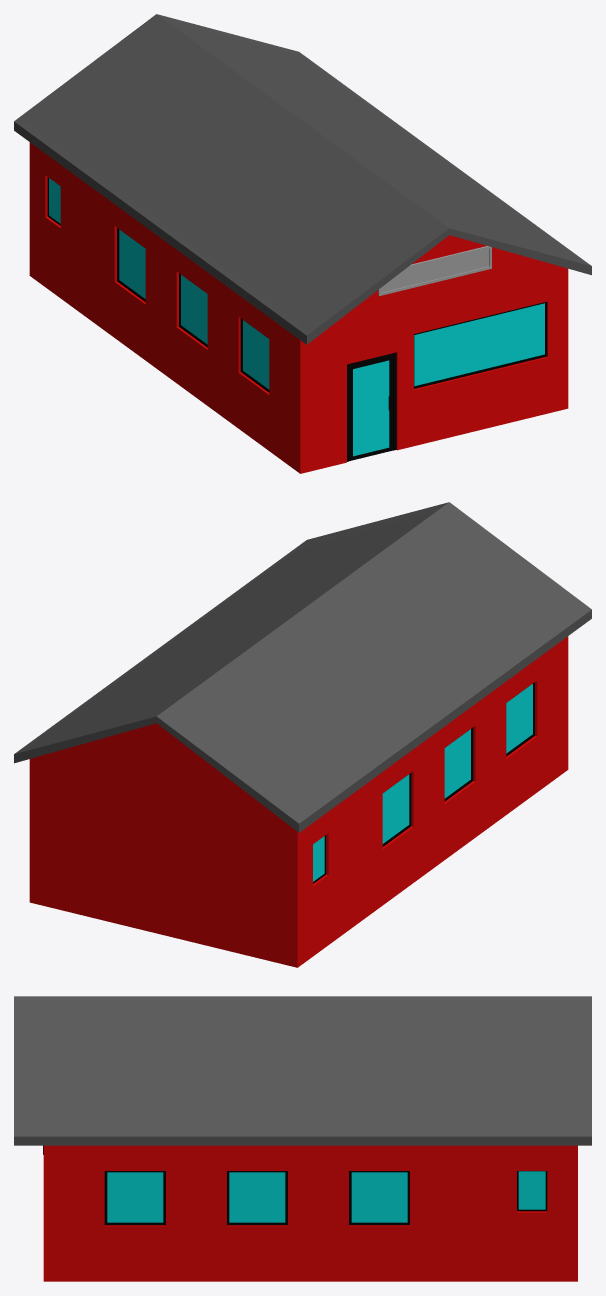
The model's file is Post OfficeF.fbx.
The picture shows the model from 3 angles, top to bottom: view 1: azimuth 30°, elevation 25°; view 2: azimuth 150°, elevation 25°; view 3: azimuth 270°, elevation 25°; orthographic projection.
Visible parts, largest first — view 1: polySurface7, polySurface8, polySurface2, polySurface9, polySurface12, polySurface11, polySurface4; view 2: polySurface7, polySurface11, polySurface4, polySurface12; view 3: polySurface7, polySurface13, polySurface14, polySurface15, polySurface10.
Part boxes in pixels (box(x1,y1,x2,y2)): polySurface7: box(14, 14, 591, 473); polySurface8: box(414, 301, 546, 388); polySurface2: box(347, 352, 396, 461); polySurface9: box(378, 246, 491, 296); polySurface12: box(240, 318, 269, 392); polySurface11: box(179, 273, 207, 347); polySurface4: box(117, 228, 145, 301); polySurface7: box(14, 502, 591, 967); polySurface11: box(444, 727, 473, 801); polySurface4: box(382, 773, 411, 846); polySurface12: box(506, 682, 534, 756); polySurface7: box(14, 996, 591, 1281); polySurface13: box(104, 1171, 165, 1225); polySurface14: box(227, 1171, 287, 1225); polySurface15: box(349, 1171, 409, 1225); polySurface10: box(517, 1171, 547, 1211).
Bounding box in the file's own units: 21.29 × 15.98 × 37.87.
